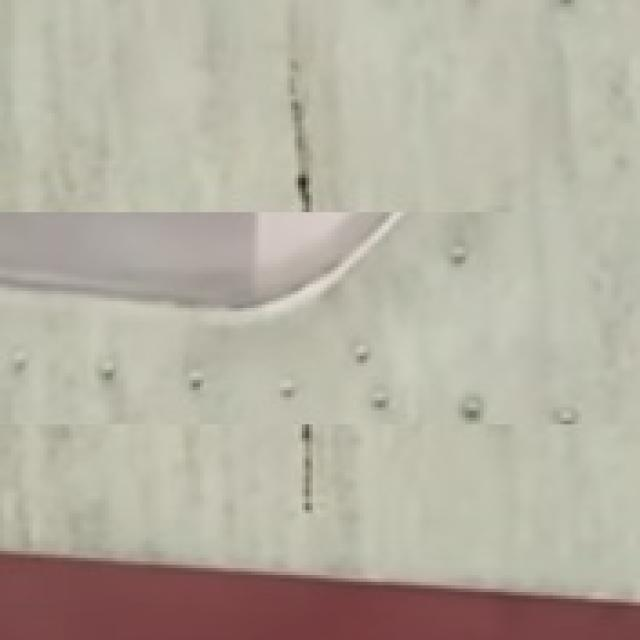crack: (284, 120, 317, 236)
